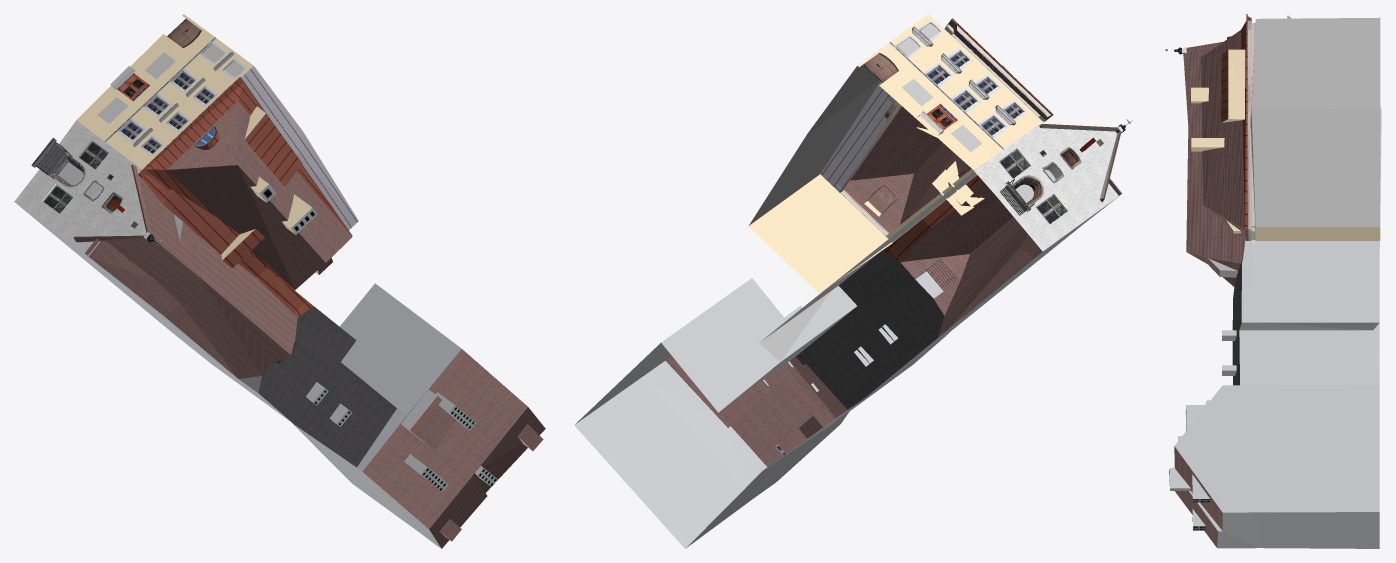
The model's file is Viru_2.obj.
3 renders of one model, left to right at view 1: azimuth 30°, elevation 25°; view 2: azimuth 150°, elevation 25°; view 3: azimuth 270°, elevation 25°, orthographic. The views are drawn at different scales.
Parts seen in each view (by area): view 1: Viru_2; view 2: Viru_2; view 3: Viru_2.
Boxes of the visible parts, x1=… form: Viru_2: x1=14, y1=14, x2=545, y2=548; Viru_2: x1=574, y1=14, x2=1132, y2=548; Viru_2: x1=1165, y1=14, x2=1381, y2=548.
Bounding box in the file's own units: 43.34 × 46.72 × 20.36.
